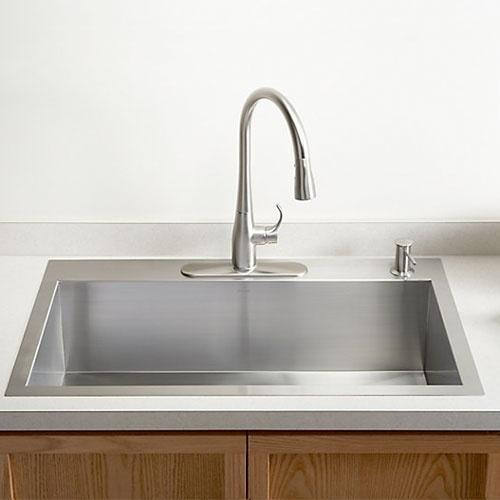Lavaplatos: (0, 77, 486, 423)
